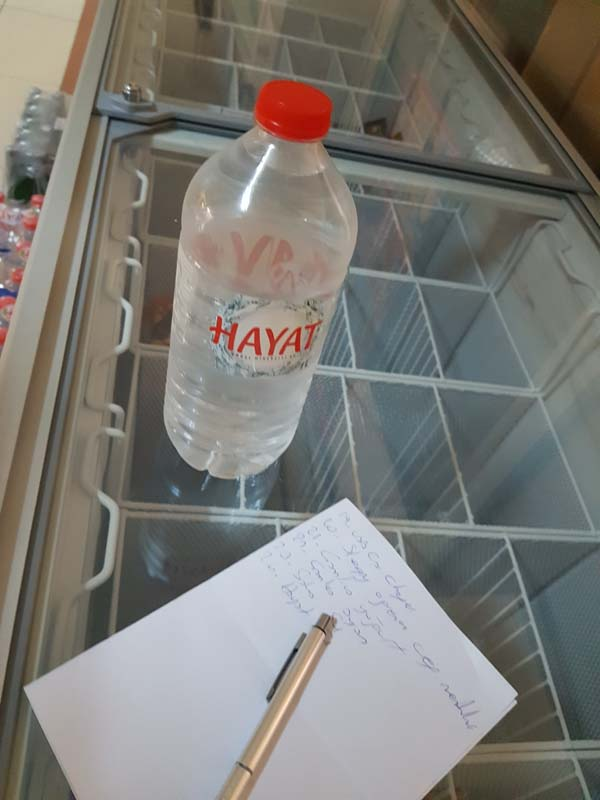saka500mlsu: (161, 73, 366, 482)
